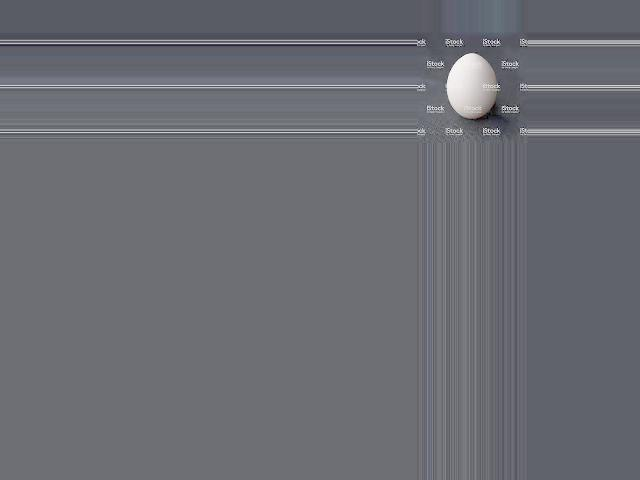egg: (447, 53, 497, 119)
